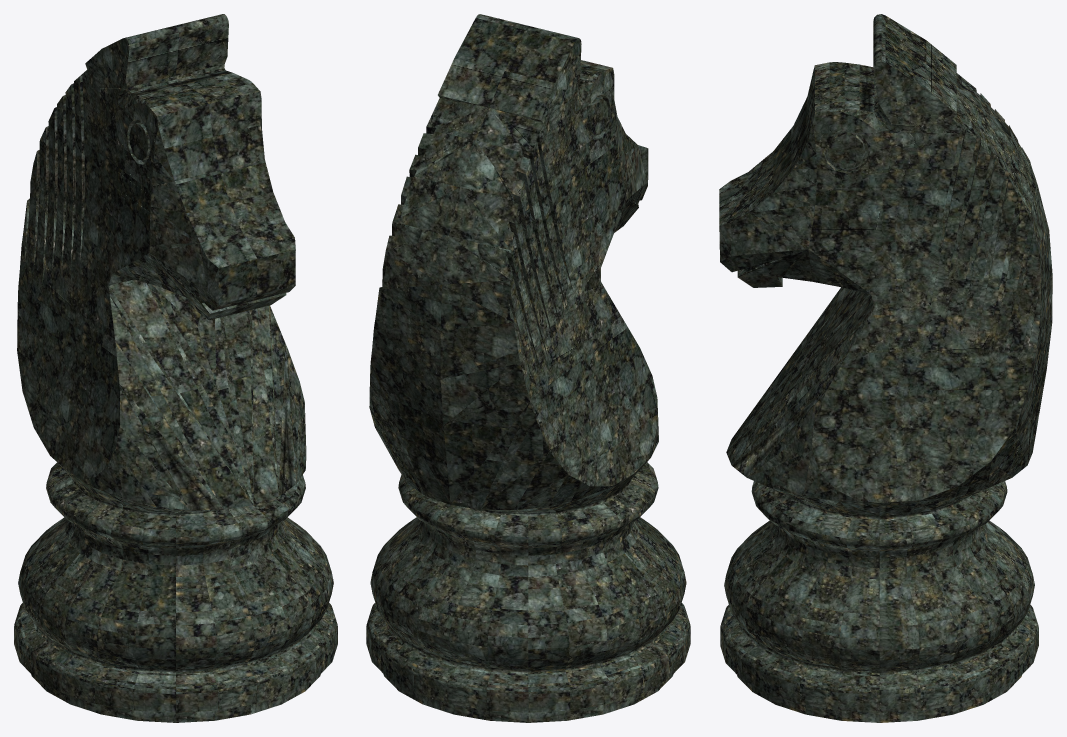
Rendered from knight.fbx.
3 renders of one model, left to right at view 1: azimuth 30°, elevation 25°; view 2: azimuth 150°, elevation 25°; view 3: azimuth 270°, elevation 25°, orthographic.
Parts seen in each view (by area): view 1: Model; view 2: Model; view 3: Model.
Boxes of the visible parts, left/top/right/bottom form: Model: left=14, top=14, right=337, bottom=722; Model: left=366, top=14, right=690, bottom=722; Model: left=719, top=14, right=1052, bottom=722.
Size of the model in its own units: 12.26 by 26.45 by 12.82.
Materials: 1 (1 with a texture image).
